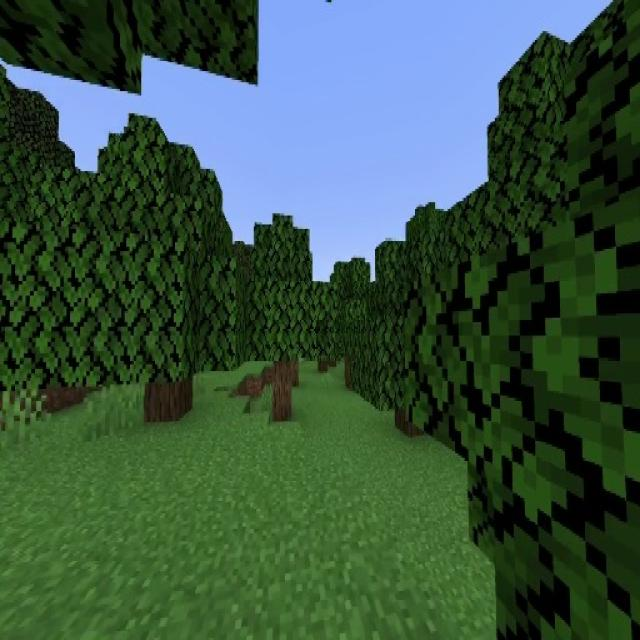oak: (63, 114, 244, 430), (230, 215, 332, 421)
oak_log: (146, 373, 190, 422), (274, 359, 291, 420)
